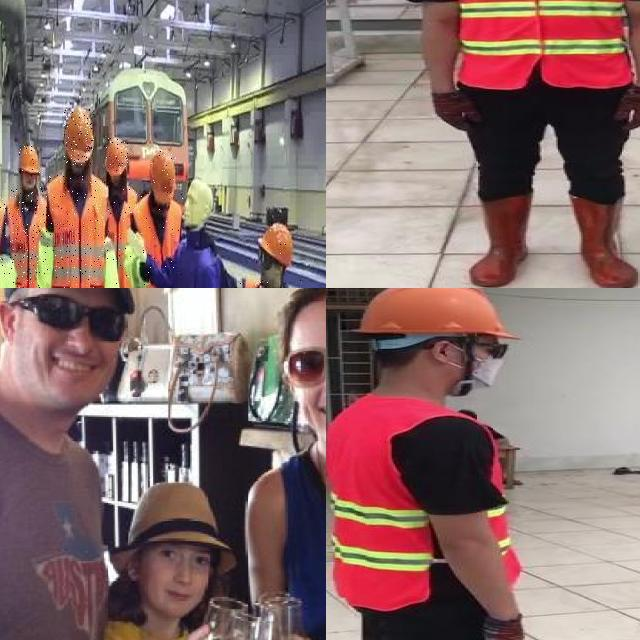boots: (572, 192, 638, 288), (471, 192, 528, 288)
face_mask: (433, 334, 517, 394)
face_nomask: (26, 288, 129, 397), (149, 532, 213, 608), (283, 325, 326, 432)
glasses: (2, 288, 140, 349), (281, 333, 326, 389)
hand_glove: (432, 90, 485, 133), (614, 87, 640, 131), (477, 618, 523, 640)
head_helmet: (114, 468, 240, 569), (349, 288, 522, 344), (64, 109, 95, 165), (256, 223, 294, 263), (150, 150, 176, 208), (104, 138, 128, 178), (18, 145, 40, 178)
head_nohelmet: (266, 288, 326, 324)
person: (326, 288, 546, 640), (398, 0, 640, 288)
vest: (326, 393, 523, 610), (447, 0, 634, 90), (47, 174, 107, 288), (131, 193, 183, 288), (8, 187, 48, 288), (106, 186, 136, 288)
